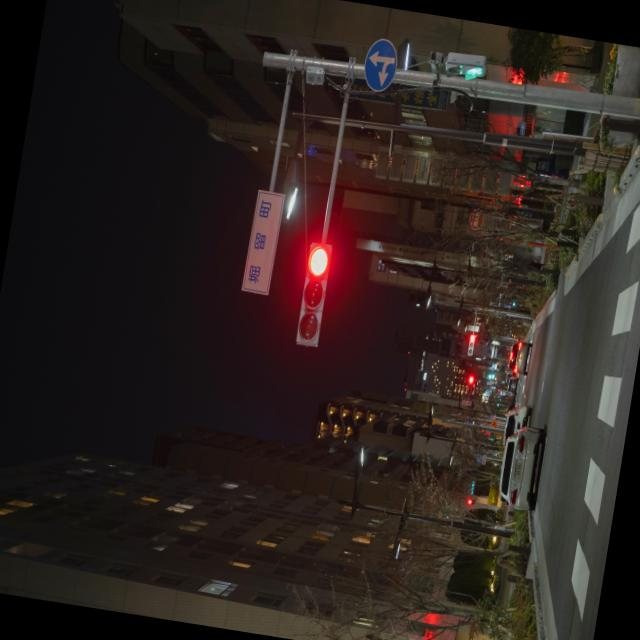red-lights: (308, 246, 330, 276), (470, 336, 475, 344), (468, 376, 474, 382)
